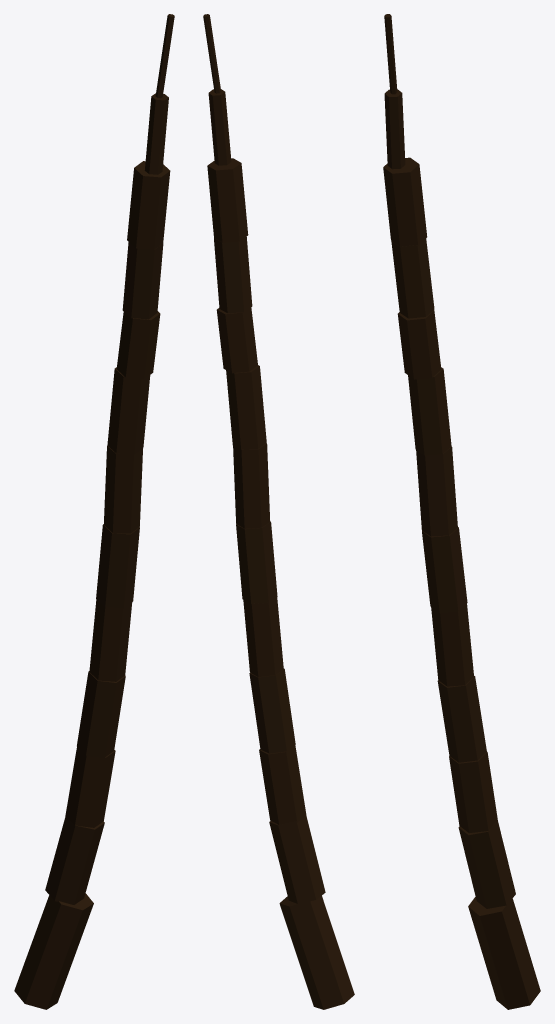
File: tree_555_no_leaf.obj
3 views of the same model, side by side, from view 1: azimuth 30°, elevation 25°; view 2: azimuth 210°, elevation 25°; view 3: azimuth 270°, elevation 25° (orthographic). The views are drawn at different scales.
Parts seen in each view (by area): view 1: TrunkAndBranches; view 2: TrunkAndBranches; view 3: TrunkAndBranches.
Boxes of the visible parts, x1,y1,x2,y2 form: TrunkAndBranches: (14,14,174,1009); TrunkAndBranches: (203,14,354,1009); TrunkAndBranches: (383,14,540,1009).
Bounding box in the file's own units: 0.3341 × 3.63 × 0.5077.
